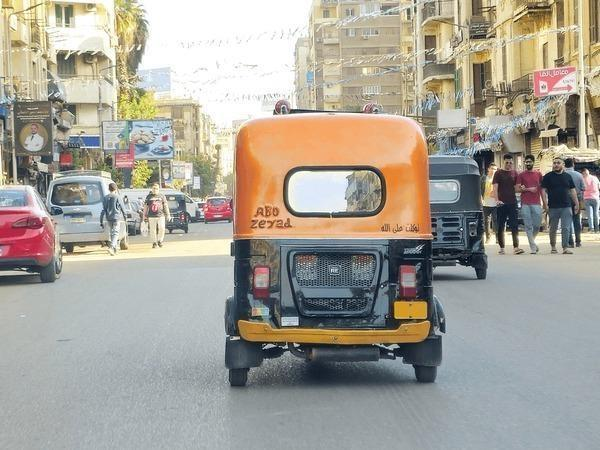keke: (225, 115, 442, 404), (428, 156, 489, 288), (0, 183, 61, 305)
